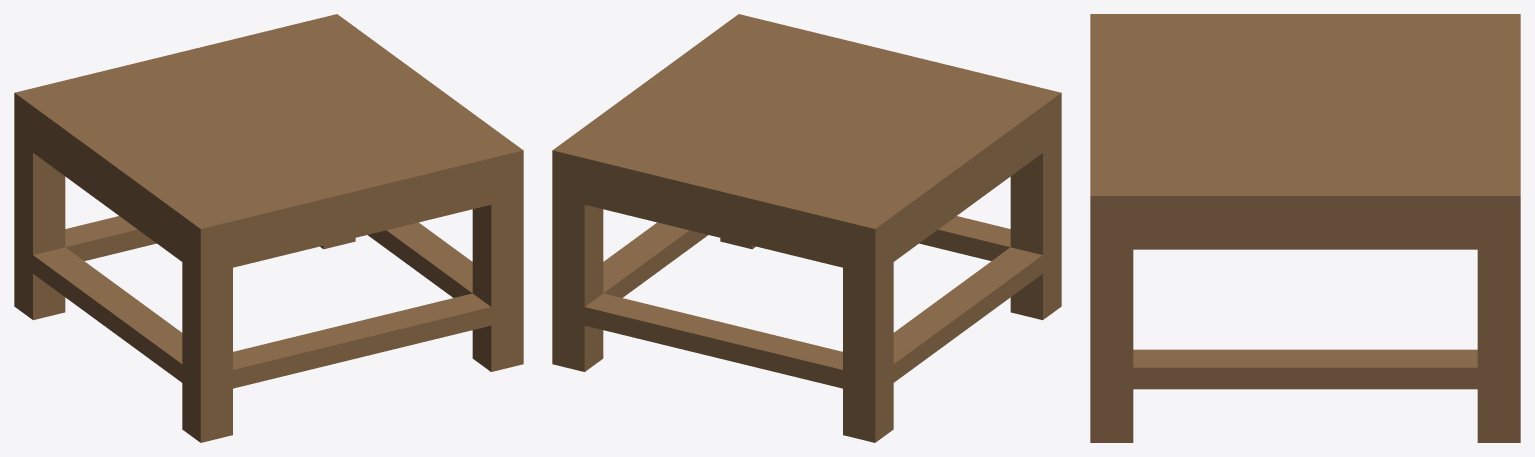
Rendered from outdoor-coffee-table.glb.
The picture shows the model from 3 angles, left to right: view 1: azimuth 30°, elevation 25°; view 2: azimuth 150°, elevation 25°; view 3: azimuth 270°, elevation 25°; orthographic projection. The views are drawn at different scales.
Visible parts, largest first — view 1: outdoor-coffee-table; view 2: outdoor-coffee-table; view 3: outdoor-coffee-table.
Part boxes in pixels (<box>): outdoor-coffee-table: <box>14,14,523,442</box>; outdoor-coffee-table: <box>552,14,1061,442</box>; outdoor-coffee-table: <box>1090,14,1520,442</box>.
Bounding box in the file's own units: 0.6 × 0.38 × 0.6.
